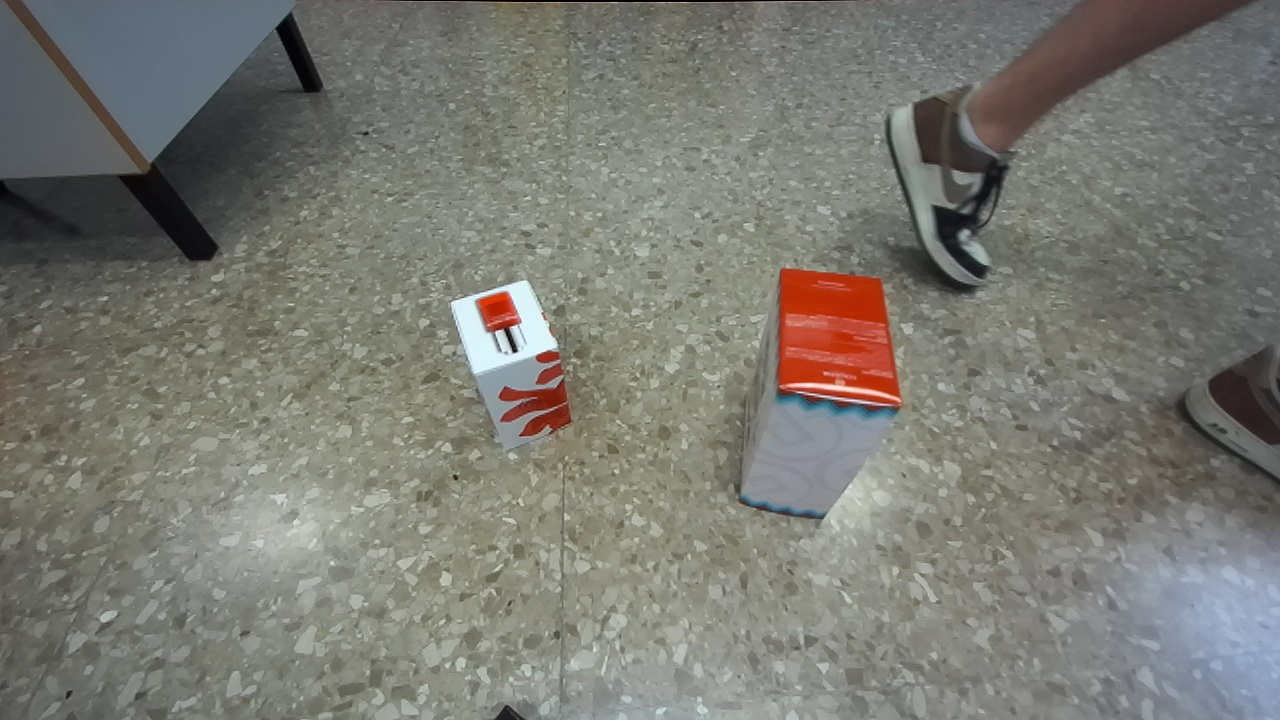caja_busbar: (740, 269, 901, 516)
caja_potencia: (451, 282, 571, 449)
